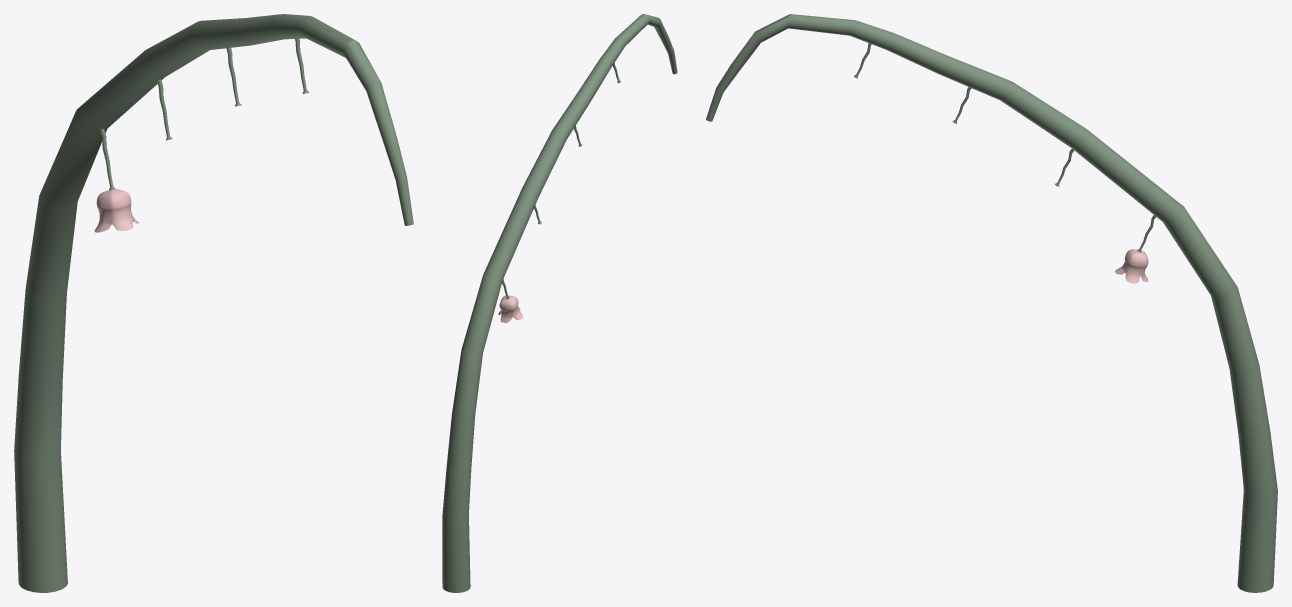
Rendered from lily1.fbx.
The picture shows the model from 3 angles, left to right: view 1: azimuth 30°, elevation 25°; view 2: azimuth 150°, elevation 25°; view 3: azimuth 270°, elevation 25°; orthographic projection. The views are drawn at different scales.
Visible parts, largest first — view 1: polySurface2, polySurface8; view 2: polySurface2, polySurface8; view 3: polySurface2, polySurface8.
Boxes of the visible parts, bbox=[...] form: polySurface2: bbox=[14, 14, 413, 592]; polySurface8: bbox=[94, 189, 139, 232]; polySurface2: bbox=[442, 14, 677, 592]; polySurface8: bbox=[498, 295, 523, 323]; polySurface2: bbox=[706, 14, 1277, 592]; polySurface8: bbox=[1115, 249, 1148, 283].
Size of the model in its own units: 0.2449 by 3.4 by 3.11.
